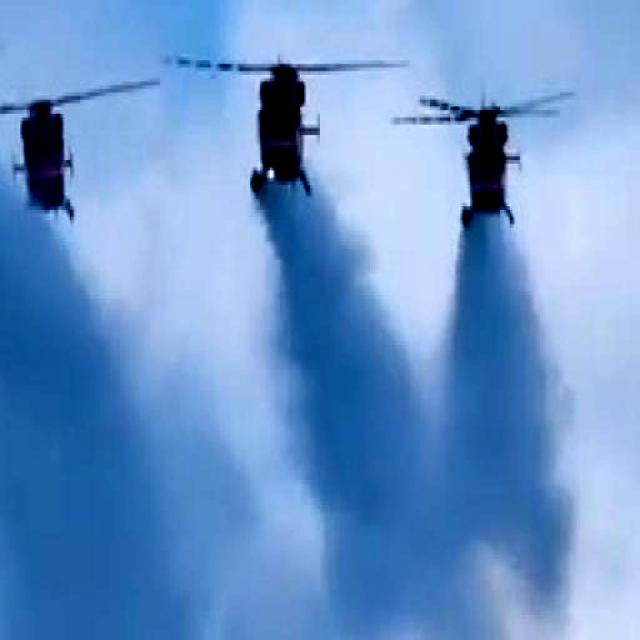drone: (184, 12, 405, 208), (399, 40, 575, 235), (0, 80, 160, 226)
